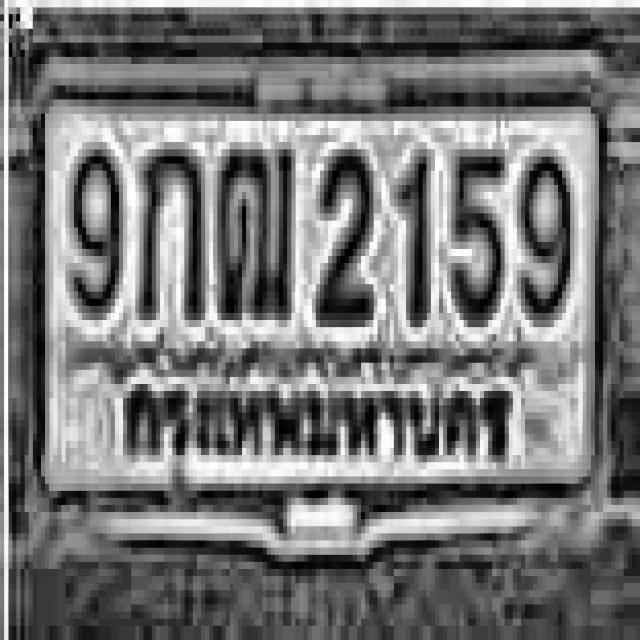license-plate: (23, 33, 616, 565)
